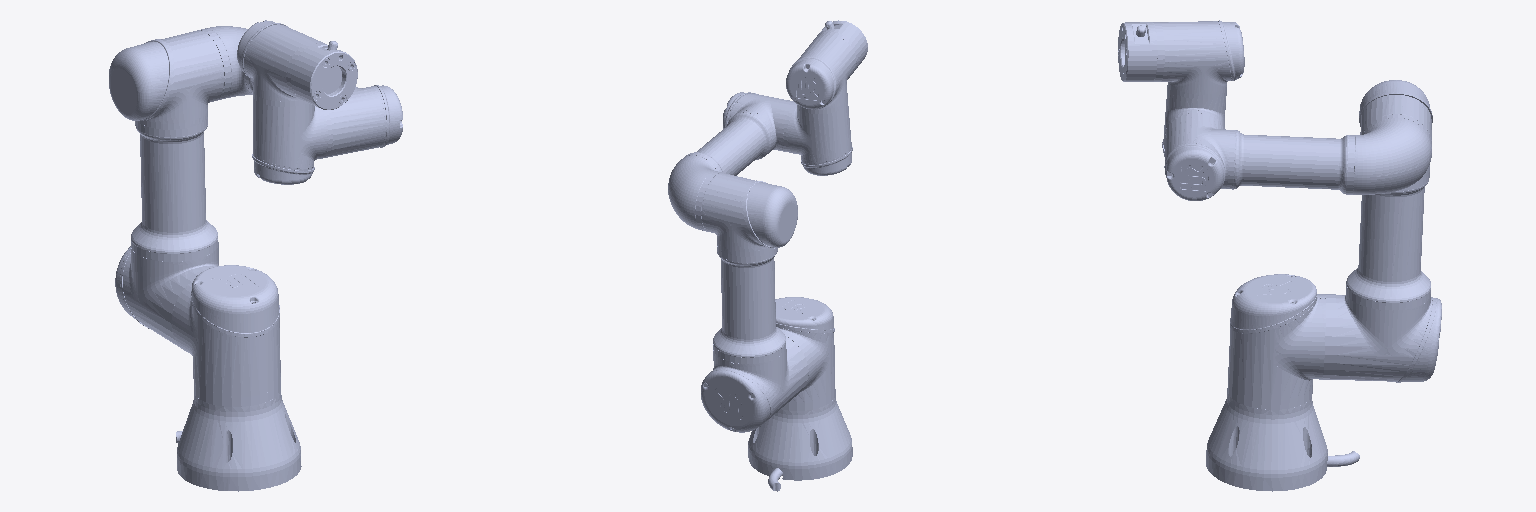
robot.urdf — iai_ur3:
<robot
  name="iai_ur3">
  <link
    name="base_link">
    <inertial>
      <origin
        xyz="-9.1792E-05 0.0017623 0.022199"
        rpy="0 0 0" />
      <mass
        value="0.61579" />
      <inertia
        ixx="0.00079839"
        ixy="-2.3694E-06"
        ixz="2.3195E-06"
        iyy="0.00078531"
        iyz="-2.9561E-05"
        izz="0.0010299" />
    </inertial>
    <visual>
      <origin
        xyz="0 0 0"
        rpy="0 0 0" />
      <geometry>
        <mesh
          filename="package://iai_ur3/meshes/base_link.STL" />
      </geometry>
      <material
        name="">
        <color
          rgba="0.79216 0.81961 0.93333 1" />
      </material>
    </visual>
    <collision>
      <origin
        xyz="0 0 0"
        rpy="0 0 0" />
      <geometry>
        <mesh
          filename="package://iai_ur3/meshes/base_link.STL" />
      </geometry>
    </collision>
  </link>
  <link
    name="link1">
    <inertial>
      <origin
        xyz="-1.1657E-05 0.054233 0.0070956"
        rpy="0 0 0" />
      <mass
        value="0.75202" />
      <inertia
        ixx="0.0011977"
        ixy="-1.5751E-07"
        ixz="-1.4034E-07"
        iyy="0.00090395"
        iyz="9.9516E-05"
        izz="0.0011193" />
    </inertial>
    <visual>
      <origin
        xyz="0 0 0"
        rpy="0 0 0" />
      <geometry>
        <mesh
          filename="package://iai_ur3/meshes/link1.STL" />
      </geometry>
      <material
        name="">
        <color
          rgba="0.79216 0.81961 0.93333 1" />
      </material>
    </visual>
    <collision>
      <origin
        xyz="0 0 0"
        rpy="0 0 0" />
      <geometry>
        <mesh
          filename="package://iai_ur3/meshes/link1.STL" />
      </geometry>
    </collision>
  </link>
  <joint
    name="jnt1"
    type="revolute">
    <origin
      xyz="0 0.0026751 0.062026"
      rpy="1.6139 -0.00078894 -3.1233" />
    <parent
      link="base_link" />
    <child
      link="link1" />
    <axis
      xyz="-0.00078894 -0.99907 0.043081" />
    <limit
      lower="-3.14"
      upper="3.14"
      effort="0"
      velocity="0" />
  </joint>
  <link
    name="link2">
    <inertial>
      <origin
        xyz="-0.00150993715612553 0.0606480611020562 0.104861352156976"
        rpy="0 0 0" />
      <mass
        value="1.78480428246364" />
      <inertia
        ixx="0.0188981470226268"
        ixy="-1.41115805678131E-05"
        ixz="-0.000378397103753737"
        iyy="0.0187332691565575"
        iyz="0.000952815497784153"
        izz="0.00206841452625772" />
    </inertial>
    <visual>
      <origin
        xyz="0 0 0"
        rpy="0 0 0" />
      <geometry>
        <mesh
          filename="package://iai_ur3/meshes/link2.STL" />
      </geometry>
      <material
        name="">
        <color
          rgba="0.792156862745098 0.819607843137255 0.933333333333333 1" />
      </material>
    </visual>
    <collision>
      <origin
        xyz="0 0 0"
        rpy="0 0 0" />
      <geometry>
        <mesh
          filename="package://iai_ur3/meshes/link2.STL" />
      </geometry>
    </collision>
  </link>
  <joint
    name="jnt2"
    type="revolute">
    <origin
      xyz="0.00015682 0.065852 0.054304"
      rpy="1.5708 -9.0206E-17 3.1409" />
    <parent
      link="link1" />
    <child
      link="link2" />
    <axis
      xyz="0 -1 0" />
    <limit
      lower="-3.14"
      upper="3.14"
      effort="0"
      velocity="0" />
  </joint>
  <link
    name="link3">
    <inertial>
      <origin
        xyz="-0.0675829344633688 -0.124772832848884 0.192768029289695"
        rpy="0 0 0" />
      <mass
        value="0.962232874219519" />
      <inertia
        ixx="0.00210349303153354"
        ixy="0.00273543928051494"
        ixz="-4.77126835115765E-05"
        iyy="0.00568366406491778"
        iyz="-2.04186852365299E-05"
        izz="0.00730111706250064" />
    </inertial>
    <visual>
      <origin
        xyz="0 0 0"
        rpy="0 0 0" />
      <geometry>
        <mesh
          filename="package://iai_ur3/meshes/link3.STL" />
      </geometry>
      <material
        name="">
        <color
          rgba="0.792156862745098 0.819607843137255 0.933333333333333 1" />
      </material>
    </visual>
    <collision>
      <origin
        xyz="0 0 0"
        rpy="0 0 0" />
      <geometry>
        <mesh
          filename="package://iai_ur3/meshes/link3.STL" />
      </geometry>
    </collision>
  </link>
  <joint
    name="jnt3"
    type="revolute">
    <origin
      xyz="0.00015682 0.065548 0.05176"
      rpy="-1.9475E-16 -1.0122E-15 1.1551" />
    <parent
      link="link2" />
    <child
      link="link3" />
    <axis
      xyz="0.39246 -0.91805 0.056125" />
    <limit
      lower="-3.14"
      upper="3.14"
      effort="0"
      velocity="0" />
  </joint>
  <link
    name="link4">
    <inertial>
      <origin
        xyz="-0.0500882169680532 -0.0157780813611686 -0.212981766952969"
        rpy="0 0 0" />
      <mass
        value="0.325200231613467" />
      <inertia
        ixx="0.000205544289599672"
        ixy="1.93448815628817E-06"
        ixz="-2.1817052126429E-06"
        iyy="0.000267832907178191"
        iyz="-6.41818873781377E-08"
        izz="0.000305831664322022" />
    </inertial>
    <visual>
      <origin
        xyz="0 0 0"
        rpy="0 0 0" />
      <geometry>
        <mesh
          filename="package://iai_ur3/meshes/link4.STL" />
      </geometry>
      <material
        name="">
        <color
          rgba="0.792156862745098 0.819607843137255 0.933333333333333 1" />
      </material>
    </visual>
    <collision>
      <origin
        xyz="0 0 0"
        rpy="0 0 0" />
      <geometry>
        <mesh
          filename="package://iai_ur3/meshes/link4.STL" />
      </geometry>
    </collision>
  </link>
  <joint
    name="jnt4"
    type="revolute">
    <origin
      xyz="0 0 0.14633"
      rpy="1.7932 1.5708 2.1973" />
    <parent
      link="link3" />
    <child
      link="link4" />
    <axis
      xyz="0.04668 -0.99891 -0.00037377" />
    <limit
      lower="-3.14"
      upper="3.14"
      effort="0"
      velocity="0" />
  </joint>
  <link
    name="link5">
    <inertial>
      <origin
        xyz="-0.0085242 0.21142 -0.081277"
        rpy="0 0 0" />
      <mass
        value="0.32521" />
      <inertia
        ixx="0.00029741"
        ixy="1.3735E-05"
        ixz="-2.1233E-06"
        iyy="0.00020754"
        iyz="-1.846E-06"
        izz="0.00026161" />
    </inertial>
    <visual>
      <origin
        xyz="0 0 0"
        rpy="0 0 0" />
      <geometry>
        <mesh
          filename="package://iai_ur3/meshes/link5.STL" />
      </geometry>
      <material
        name="">
        <color
          rgba="0.79216 0.81961 0.93333 1" />
      </material>
    </visual>
    <collision>
      <origin
        xyz="0 0 0"
        rpy="0 0 0" />
      <geometry>
        <mesh
          filename="package://iai_ur3/meshes/link5.STL" />
      </geometry>
    </collision>
  </link>
  <joint
    name="jnt5"
    type="revolute">
    <origin
      xyz="-0.045564 -0.021967 0"
      rpy="-1.5788 5.8981E-16 -1.5708" />
    <parent
      link="link4" />
    <child
      link="link5" />
    <axis
      xyz="0.046677 -0.013726 -0.99882" />
    <limit
      lower="-3.14"
      upper="3.14"
      effort="0"
      velocity="0" />
  </joint>
  <link
    name="link6">
    <inertial>
      <origin
        xyz="0.058894 0.095598 -0.22714"
        rpy="0 0 0" />
      <mass
        value="0.11536" />
      <inertia
        ixx="4.3609E-05"
        ixy="7.5667E-08"
        ixz="-2.3455E-06"
        iyy="4.3366E-05"
        iyz="-1.0039E-07"
        izz="5.8711E-05" />
    </inertial>
    <visual>
      <origin
        xyz="0 0 0"
        rpy="0 0 0" />
      <geometry>
        <mesh
          filename="package://iai_ur3/meshes/link6.STL" />
      </geometry>
      <material
        name="">
        <color
          rgba="0.79216 0.81961 0.93333 1" />
      </material>
    </visual>
    <collision>
      <origin
        xyz="0 0 0"
        rpy="0 0 0" />
      <geometry>
        <mesh
          filename="package://iai_ur3/meshes/link6.STL" />
      </geometry>
    </collision>
  </link>
  <joint
    name="jnt6"
    type="revolute">
    <origin
      xyz="0.071244 0.046024 0"
      rpy="-1.5708 -0.12492 3.1416" />
    <parent
      link="link5" />
    <child
      link="link6" />
    <axis
      xyz="0.14666 0.01164 0.98912" />
    <limit
      lower="-3140"
      upper="3140"
      effort="0"
      velocity="0" />
  </joint>
  <link
    name="link7" />
  <joint
    name="jnt7"
    type="fixed">
    <origin
      xyz="0.055848 0.095451 -0.24733"
      rpy="-3.0073 -0.014516 2.0803" />
    <parent
      link="link6" />
    <child
      link="link7" />
    <axis
      xyz="0 0 0" />
  </joint>
</robot>

--- What the picture shows (computed from the rendered views, not written in the file) ---
Views: 3 orthographic renders of the robot side by side, from view 1: azimuth 30°, elevation 25°; view 2: azimuth 150°, elevation 25°; view 3: azimuth 270°, elevation 25°.
Model iai_ur3 with 8 links and 7 joints (6 revolute, 1 fixed), rooted at base_link, posed every joint at zero.
Links seen in each view (by area): view 1: link2, link1, base_link, link3, link4, link5, link6; view 2: link2, link3, base_link, link1, link5, link4, link6; view 3: link2, link3, link1, base_link, link5, link6, link4.
Link boxes in pixels (x1,y1,x2,y2): link2: (109, 30, 224, 350); link1: (171, 265, 280, 406); base_link: (176, 392, 301, 491); link3: (201, 26, 402, 157); link4: (252, 97, 332, 184); link5: (237, 20, 320, 106); link6: (286, 41, 357, 109); link2: (701, 173, 808, 432); link3: (668, 92, 795, 231); base_link: (748, 395, 852, 491); link1: (775, 297, 835, 410); link5: (786, 35, 856, 113); link4: (783, 104, 852, 175); link6: (814, 20, 867, 72); link2: (1323, 80, 1441, 382); link3: (1164, 113, 1431, 200); link1: (1227, 274, 1325, 409); base_link: (1206, 391, 1359, 491); link5: (1160, 20, 1244, 99); link6: (1118, 22, 1164, 81); link4: (1162, 85, 1226, 156).
Size in the robot's own frame: 0.2043 by 0.3416 by 0.5325 metres.
7 mesh visuals loaded from 7 distinct referenced files (7 binary STL).